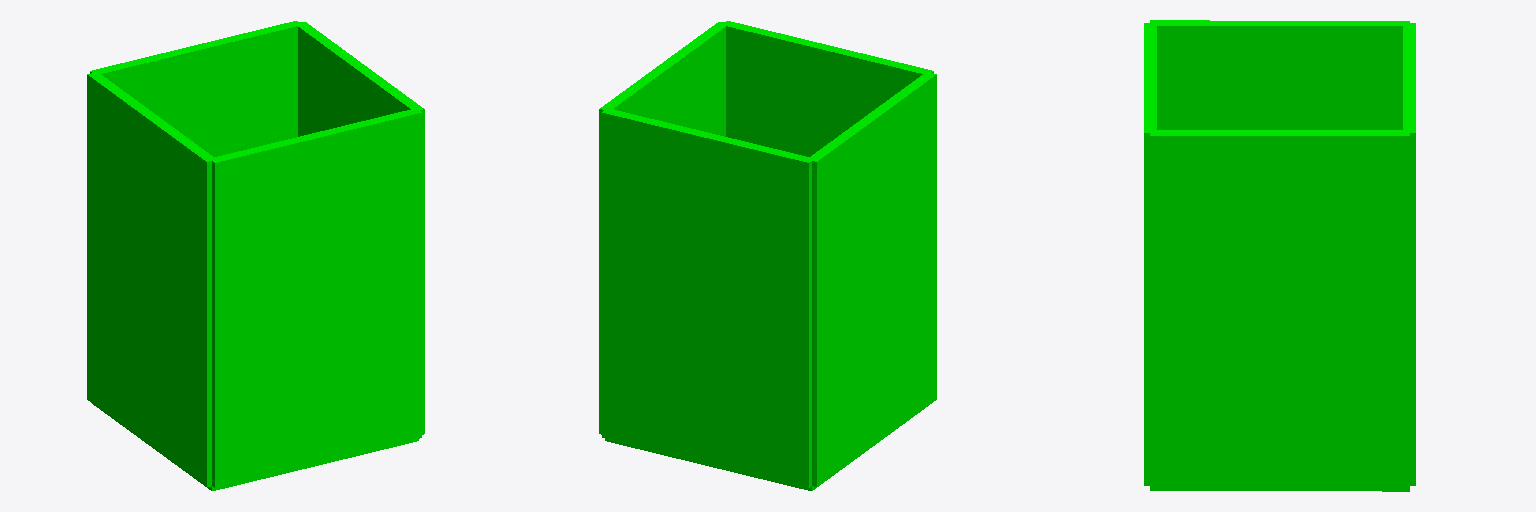
URDF robot description (basket_cube_green.urdf):
<?xml version="0.0" ?>
<robot name="basket_cube_green.urdf">
  <link name="base">
    <contact>
      <lateral_friction value="1.0"/>
    </contact>
    <inertial>
      <origin rpy="1.57 0 0" xyz="0 0 0"/>
       <mass value="10.0"/>
       <inertia ixx="1" ixy="0" ixz="0" iyy="1" iyz="0" izz="1"/>
    </inertial>
    <visual>
      <origin rpy="1.57 0 0" xyz="0 0 0"/>
      <geometry>
				<mesh filename="surface.obj" scale=".1 .1 .1"/>
      </geometry>
       <material name="taban">
        <color rgba="0 1 0 1"/>
      </material>
    </visual>
    <collision>
      <origin rpy="1.57 0 0" xyz="0 0 0"/>
      <geometry>
	 	   <box size="0.2 0.01 0.2"/>
      </geometry>
    </collision>
	 </link>

   <link name="left">
    <contact>
      <lateral_friction value="1.0"/>
    </contact>
    <visual>
      <origin rpy="0 0 0" xyz="0 0.1 0.15"/>
      <geometry>
        <mesh filename="surface.obj" scale=".1 .1 .15"/>
      </geometry>
       <material name="left">
        <color rgba="0 1 0 1"/>
      </material>
    </visual>
    <collision>
      <origin rpy="0 0 0" xyz="0 0.1 0.15"/>
      <geometry>
       <box size="0.2 0.01 0.3"/>
      </geometry>
    </collision>
    </link>

    <link name="right">
      <contact>
      <lateral_friction value="1.0"/>
    </contact>
    <visual>
      <origin rpy="0 0 0" xyz="0 -0.1 0.15"/>
      <geometry>
        <mesh filename="surface.obj" scale=".1 .1 .15"/>
      </geometry>
       <material name="right">
        <color rgba="0 1 0 1"/>
      </material>
    </visual>
    <collision>
      <origin rpy="0 0 0" xyz="0 -0.1 0.15"/>
      <geometry>
       <box size="0.2 0.01 0.3"/>
      </geometry>
    </collision>
    </link>

    <link name="front">
      <contact>
      <lateral_friction value="1.0"/>
    </contact>
    <visual>
      <origin rpy="0 0 1.57" xyz="0.1 0 0.15"/>
      <geometry>
        <mesh filename="surface.obj" scale=".1 .1 .15"/>
      </geometry>
       <material name="front">
        <color rgba="0 1 0 1"/>
      </material>
    </visual>
    <collision>
      <origin rpy="0 0 1.57" xyz="0.1 0 0.15"/>
      <geometry>
       <box size="0.2 0.01 0.3"/>
      </geometry>
    </collision>
    </link>

    <link name="back">
    <visual>
      <origin rpy="0 0 1.57" xyz="-0.1 0 0.15"/>
      <geometry>
        <mesh filename="surface.obj" scale=".1 .1 .15"/>
      </geometry>
       <material name="back">
        <color rgba="0 1 0 1"/>
      </material>
    </visual>
    <collision>
      <origin rpy="0 0 1.57" xyz="-0.1 0 0.15"/>
      <geometry>
       <box size="0.2 0.01 0.3"/>
      </geometry>
    </collision>
    </link>


    <joint name="base_to_left" type="fixed">
      <origin rpy="0 0 0" xyz="0 0 0"/>
      <parent link="base"/>
      <child link="left"/>
    </joint>

    <joint name="base_to_right" type="fixed">
      <origin rpy="0 0 0" xyz="0 0 0"/>
      <parent link="base"/>
      <child link="right"/>
    </joint>

    <joint name="base_to_front" type="fixed">
      <origin rpy="0 0 0" xyz="0 0 0"/>
      <parent link="base"/>
      <child link="front"/>
    </joint>

    <joint name="base_to_back" type="fixed">
      <origin rpy="0 0 0" xyz="0 0 0"/>
      <parent link="base"/>
      <child link="back"/>
    </joint>


</robot>

--- Render facts (derived) ---
The picture shows the robot from 3 angles, left to right: view 1: azimuth 30°, elevation 25°; view 2: azimuth 150°, elevation 25°; view 3: azimuth 270°, elevation 25°; orthographic projection.
Model basket_cube_green.urdf with 5 links and 4 joints (4 fixed), rooted at base, posed every joint at zero.
Links seen in each view (by area): view 1: right, back, left, front, base; view 2: left, back, right, front, base; view 3: front, back, right, left, base.
Link boxes in pixels (box(x1,y1,x2,y2)): right: box(210, 109, 421, 487); back: box(87, 72, 213, 486); left: box(90, 21, 301, 156); front: box(295, 22, 424, 434); base: box(93, 404, 418, 490); left: box(602, 108, 811, 487); back: box(807, 72, 936, 486); right: box(724, 21, 933, 156); front: box(599, 22, 728, 434); base: box(605, 406, 927, 490); front: box(1150, 130, 1409, 487); back: box(1150, 20, 1409, 129); right: box(1144, 23, 1156, 485); left: box(1403, 23, 1415, 485); base: box(1150, 488, 1409, 491).
Size in the robot's own frame: 0.2102 by 0.21 by 0.3051 metres.
5 mesh visuals loaded from 1 distinct referenced files (1 OBJ).
